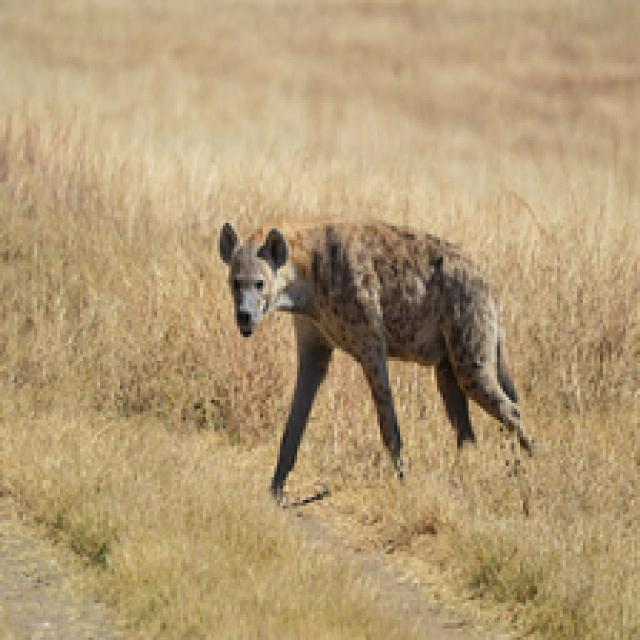hyena: (197, 200, 568, 502)
